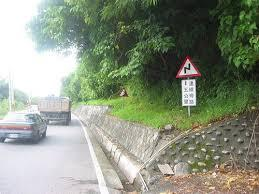double_bend_right: (174, 53, 201, 77)
